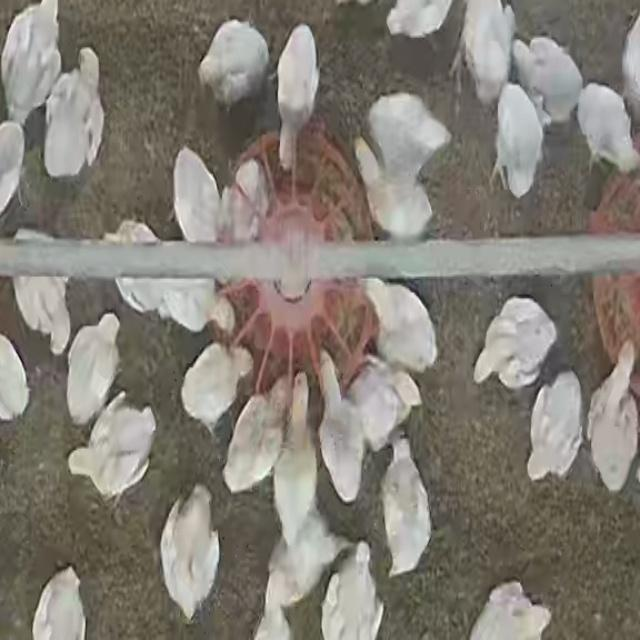chicken: (67, 394, 155, 504), (221, 369, 290, 493), (42, 48, 106, 181), (268, 17, 322, 164), (160, 486, 218, 622), (267, 506, 344, 608), (273, 371, 320, 538), (11, 230, 73, 356), (314, 349, 364, 505), (355, 142, 433, 240), (475, 297, 557, 389), (158, 243, 241, 333), (588, 344, 638, 492), (360, 280, 437, 376), (2, 2, 61, 127), (179, 340, 251, 438), (380, 436, 430, 576), (349, 358, 423, 448), (199, 19, 273, 106), (574, 80, 640, 174), (526, 372, 582, 482), (320, 543, 383, 640), (493, 82, 545, 198), (455, 2, 513, 106), (518, 35, 584, 124), (62, 317, 122, 413), (372, 90, 450, 156), (172, 147, 222, 243), (226, 155, 272, 242), (0, 332, 31, 422)
